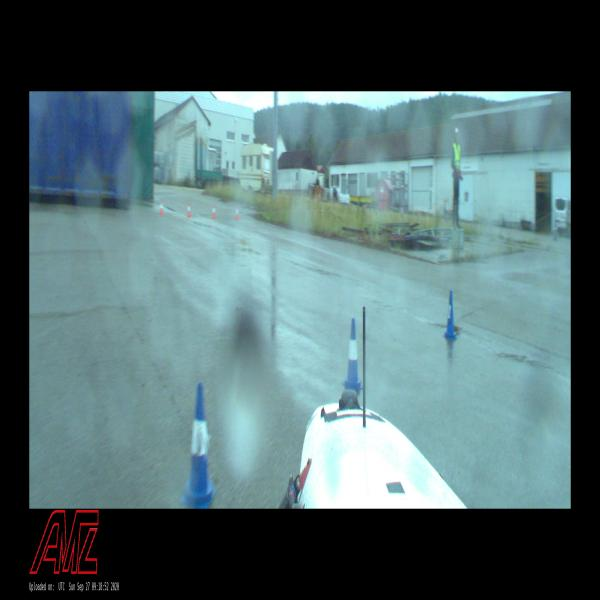blue_cone: (181, 384, 216, 509), (342, 318, 363, 389), (444, 292, 457, 339)
orange_cone: (159, 199, 164, 214), (235, 205, 239, 220), (187, 203, 191, 216), (212, 206, 216, 218)
